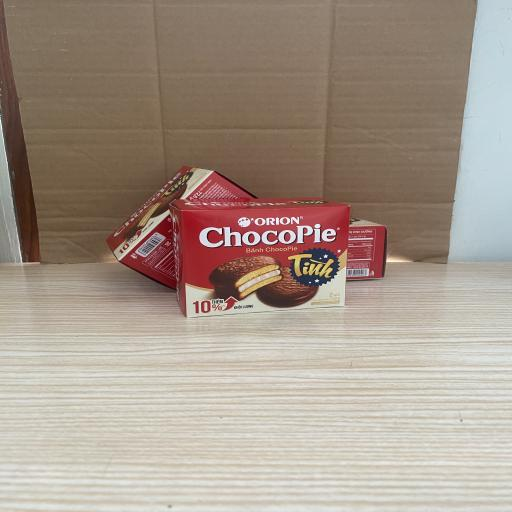chocopie: (169, 196, 350, 318), (105, 166, 254, 290), (346, 216, 387, 282)
